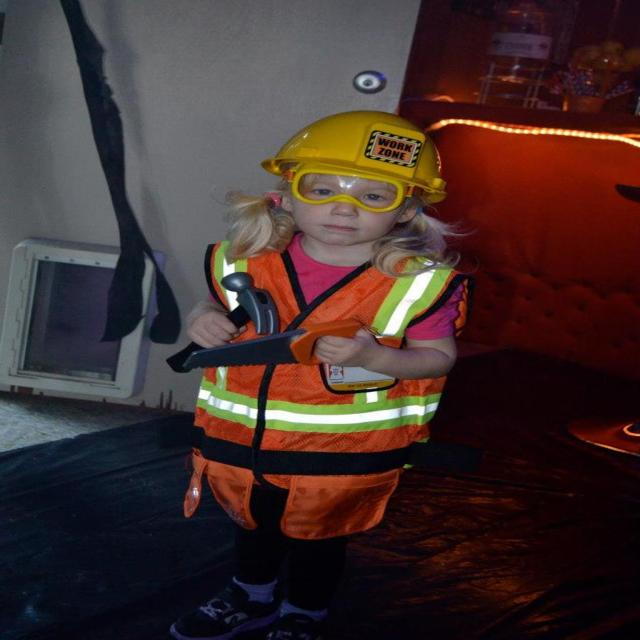Face: (273, 168, 411, 247)
